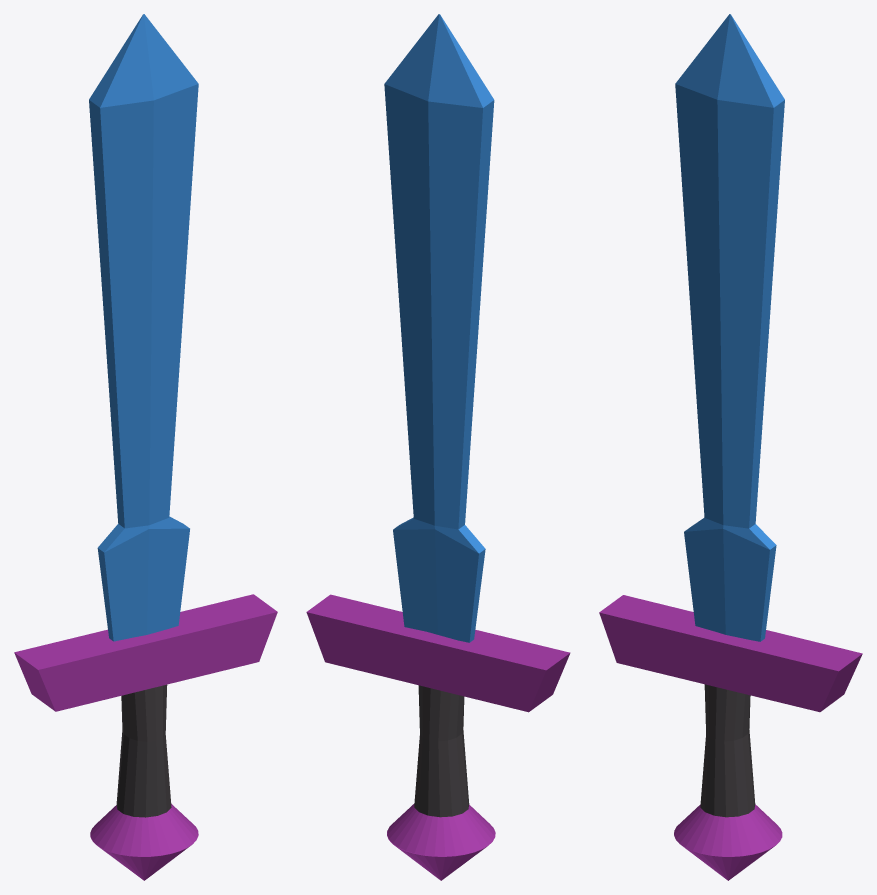
File: SWORD.fbx
3 renders of one model, left to right at view 1: azimuth 30°, elevation 25°; view 2: azimuth 150°, elevation 25°; view 3: azimuth 330°, elevation 25°, orthographic.
Parts seen in each view (by area): view 1: Cube, Cube.002, Cube.003; view 2: Cube, Cube.002, Cube.003; view 3: Cube, Cube.002, Cube.003.
Part boxes in pixels (x1,y1,x2,y2): Cube: (89,14,198,641); Cube.002: (14,594,277,880); Cube.003: (116,684,171,817); Cube: (384,14,494,642); Cube.002: (306,594,570,880); Cube.003: (414,685,469,817); Cube: (675,14,784,641); Cube.002: (599,595,862,880); Cube.003: (700,684,755,817).
Bounding box in the file's own units: 109 × 375 × 42.22.
